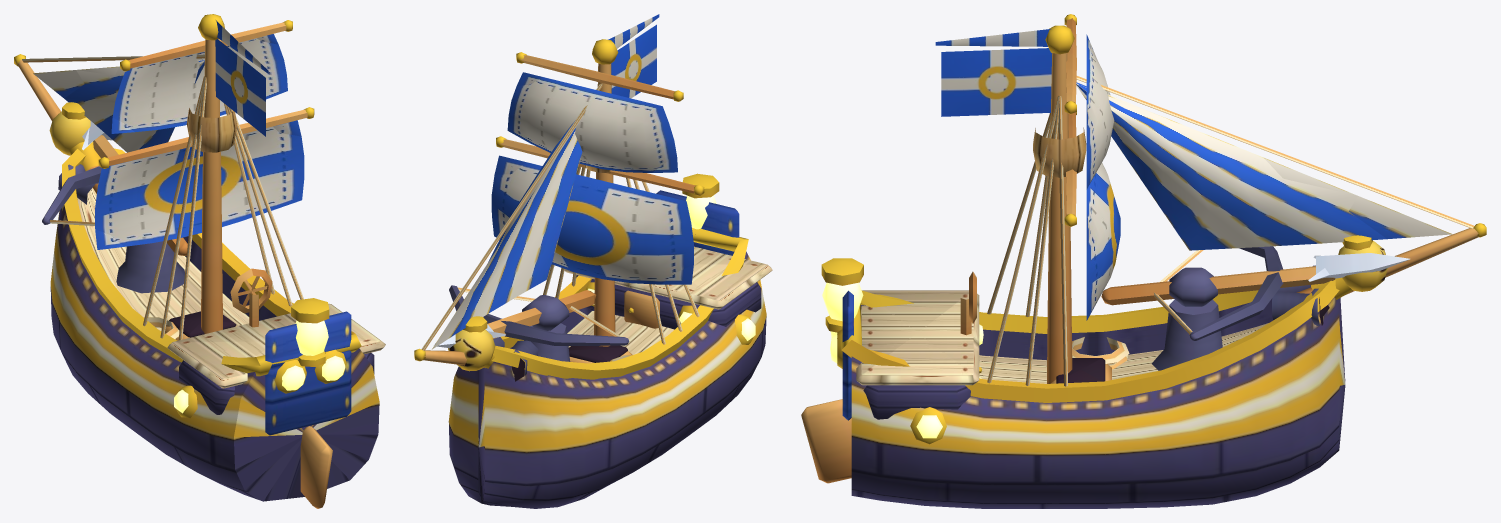
The model's file is enemy_chaser.glb.
3 views of the same model, side by side, from view 1: azimuth 30°, elevation 25°; view 2: azimuth 150°, elevation 25°; view 3: azimuth 270°, elevation 25° (orthographic). The views are drawn at different scales.
Visible parts, largest first — view 1: Hull, Rigging, Sail0_0, Sail0_1, Guns0, Jib, Flag; view 2: Hull, Sail0_0, Sail0_1, Jib, Rigging, Guns0, Flag; view 3: Hull, Jib, Rigging, Guns0, Flag, Sail0_0, Sail0_1.
Part boxes in pixels (box(x1,y1,x2,y2)): Hull: box(49, 102, 385, 508); Rigging: box(14, 14, 314, 340); Sail0_0: box(95, 120, 304, 249); Sail0_1: box(111, 34, 287, 133); Guns0: box(42, 121, 187, 293); Jib: box(33, 59, 204, 152); Flag: box(215, 20, 268, 136); Hull: box(448, 173, 772, 508); Sail0_0: box(491, 155, 693, 284); Sail0_1: box(507, 72, 677, 172); Jib: box(432, 116, 582, 349); Rigging: box(414, 39, 704, 368); Guns0: box(434, 285, 629, 381); Flag: box(608, 14, 659, 98); Hull: box(801, 235, 1387, 508); Jib: box(1076, 82, 1452, 250); Rigging: box(987, 14, 1486, 386); Guns0: box(1101, 246, 1409, 370); Flag: box(935, 29, 1051, 116); Sail0_0: box(1086, 162, 1120, 320); Sail0_1: box(1086, 34, 1114, 189).
Size of the model in its own units: 1.21 by 2.27 by 3.07.
Materials: 8 (8 with a texture image).
